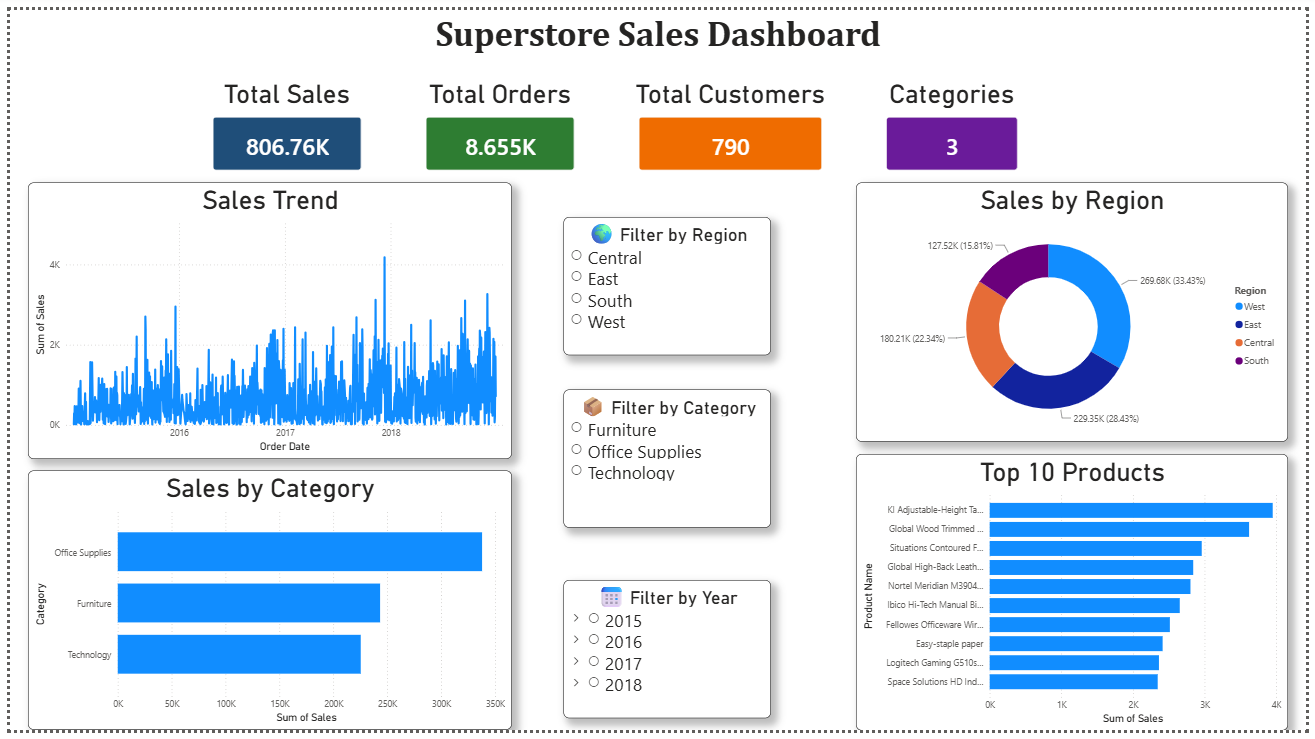

What the dashboard file says about the page in this screenshot:
{"tool":"powerbi","page":{"name":"Page 1","canvas":[1800,1000],"ordinal":0},"visuals":[{"type":"cardVisual","title":"Total Sales","fields":{"Data":["Sum(superstore_cleaned.Sales)"]},"box":[264,96,240,144],"z":0},{"type":"cardVisual","title":"Total Orders","fields":{"Data":["CountNonNull(superstore_cleaned.Order ID)"]},"box":[560,96,240,144],"z":1000},{"type":"cardVisual","title":"Total Customers","fields":{"Data":["Count(superstore_cleaned.Customer ID)"]},"box":[856,96,288,144],"z":2000},{"type":"cardVisual","title":"Categories","fields":{"Data":["Count(superstore_cleaned.Category)"]},"box":[1200,96,216,144],"z":3000},{"type":"lineChart","title":"Sales Trend","fields":{"Category":["superstore_cleaned.Order Date"],"Y":["Sum(superstore_cleaned.Sales)"]},"box":[24,240,672,384],"z":4000},{"type":"clusteredBarChart","title":"Sales by Category","fields":{"Category":["superstore_cleaned.Category"],"Y":["Sum(superstore_cleaned.Sales)"]},"box":[24,640,672,360],"z":5000},{"type":"donutChart","title":"Sales by Region","fields":{"Category":["superstore_cleaned.Region"],"Y":["Sum(superstore_cleaned.Sales)"]},"box":[1176,240,600,360],"z":6000},{"type":"clusteredBarChart","title":"Top 10 Products","fields":{"Category":["superstore_cleaned.Product Name"],"Y":["Sum(superstore_cleaned.Sales)"]},"box":[1176,616,600,384],"z":7000},{"type":"listSlicer","title":"🌍 Filter by Region","fields":{"Values":["superstore_cleaned.Region"]},"box":[768,288,288,192],"z":8000},{"type":"listSlicer","title":"📦 Filter by Category","fields":{"Values":["superstore_cleaned.Category"]},"box":[768,528,288,192],"z":9000},{"type":"listSlicer","title":"📅 Filter by Year","fields":{"Values":["superstore_cleaned.Order Date.Variation.Date Hierarchy.Year","superstore_cleaned.Order Date.Variation.Date Hierarchy.Quarter","superstore_cleaned.Order Date.Variation.Date Hierarchy.Month","superstore_cleaned.Order Date.Variation.Date Hierarchy.Day"]},"box":[768,792,288,192],"z":10000},{"type":"textbox","box":[552,0,696,72],"z":11000}]}

Visuals, with their boxes in screenshot pixels (x1, y1, x2, y2), scaled from the page's 1800x1000 canvas onto the 1315x739 screenshot:
"Total Sales" cardVisual: l=193, t=71, r=368, b=177
"Total Orders" cardVisual: l=409, t=71, r=584, b=177
"Total Customers" cardVisual: l=625, t=71, r=836, b=177
"Categories" cardVisual: l=877, t=71, r=1034, b=177
"Sales Trend" lineChart: l=18, t=177, r=508, b=461
"Sales by Category" clusteredBarChart: l=18, t=473, r=508, b=738
"Sales by Region" donutChart: l=859, t=177, r=1297, b=443
"Top 10 Products" clusteredBarChart: l=859, t=455, r=1297, b=738
"🌍 Filter by Region" listSlicer: l=561, t=213, r=771, b=355
"📦 Filter by Category" listSlicer: l=561, t=390, r=771, b=532
"📅 Filter by Year" listSlicer: l=561, t=585, r=771, b=727
textbox: l=403, t=0, r=912, b=53
